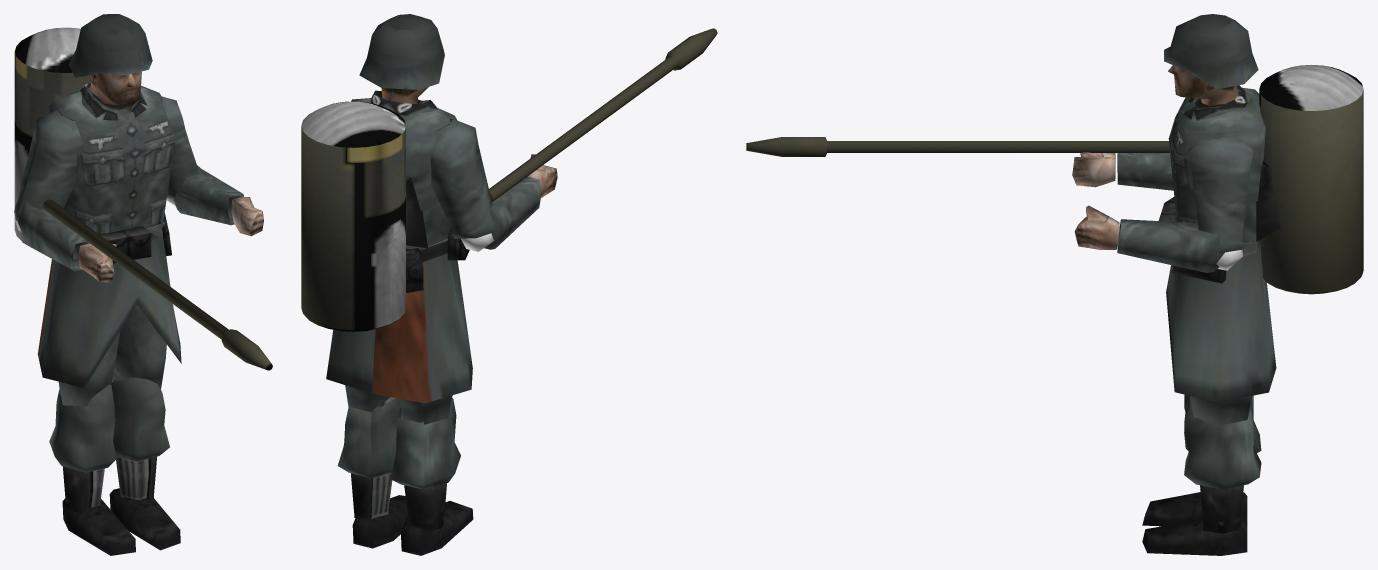
File: gerinfft.dae
3 views of the same model, side by side, from view 1: azimuth 30°, elevation 25°; view 2: azimuth 150°, elevation 25°; view 3: azimuth 270°, elevation 25° (orthographic). The views are drawn at different scales.
Parts seen in each view (by area): view 1: torso, fttank, rloleg, lloleg, head, ruparm, gun, lupleg, rloarm, lfoot, lloarm, rfoot (+4 smaller); view 2: fttank, torso, rloleg, head, ruparm, lloleg, gun, rloarm, rfoot, lfoot, rupleg, lupleg (+1 smaller); view 3: torso, fttank, lloleg, head, luparm, gun, lloarm, lfoot, rloarm, rfoot, lhand, lupleg (+1 smaller).
Boxes of the visible parts, x1,y1,x2,y2 form: torso: (37, 82, 181, 387); fttank: (14, 27, 90, 244); rloleg: (49, 384, 116, 513); lloleg: (111, 377, 169, 500); head: (69, 14, 152, 106); ruparm: (14, 110, 83, 220); gun: (42, 199, 272, 370); lupleg: (113, 304, 166, 388); rloarm: (18, 201, 89, 271); lfoot: (109, 488, 180, 550); lloarm: (173, 165, 243, 225); rfoot: (62, 498, 135, 555); fttank: (301, 101, 405, 331); torso: (326, 90, 472, 403); rloleg: (390, 398, 460, 531); head: (359, 14, 444, 103); ruparm: (430, 119, 495, 238); lloleg: (337, 397, 400, 519); gun: (489, 28, 717, 201); rloarm: (484, 176, 541, 249); rfoot: (401, 501, 473, 555); lfoot: (352, 495, 407, 548); rupleg: (399, 395, 452, 424); lupleg: (345, 385, 390, 412); torso: (1158, 85, 1280, 402); fttank: (1259, 65, 1363, 294); lloleg: (1184, 395, 1261, 533); head: (1164, 14, 1258, 106); luparm: (1188, 135, 1253, 252); gun: (746, 137, 1169, 156); lloarm: (1117, 219, 1224, 272); lfoot: (1142, 519, 1247, 555); rloarm: (1117, 153, 1173, 190); rfoot: (1142, 492, 1247, 526); lhand: (1074, 205, 1119, 249); lupleg: (1189, 396, 1251, 427).
Bounding box in the file's own units: 8.66 × 24.39 × 22.54.
